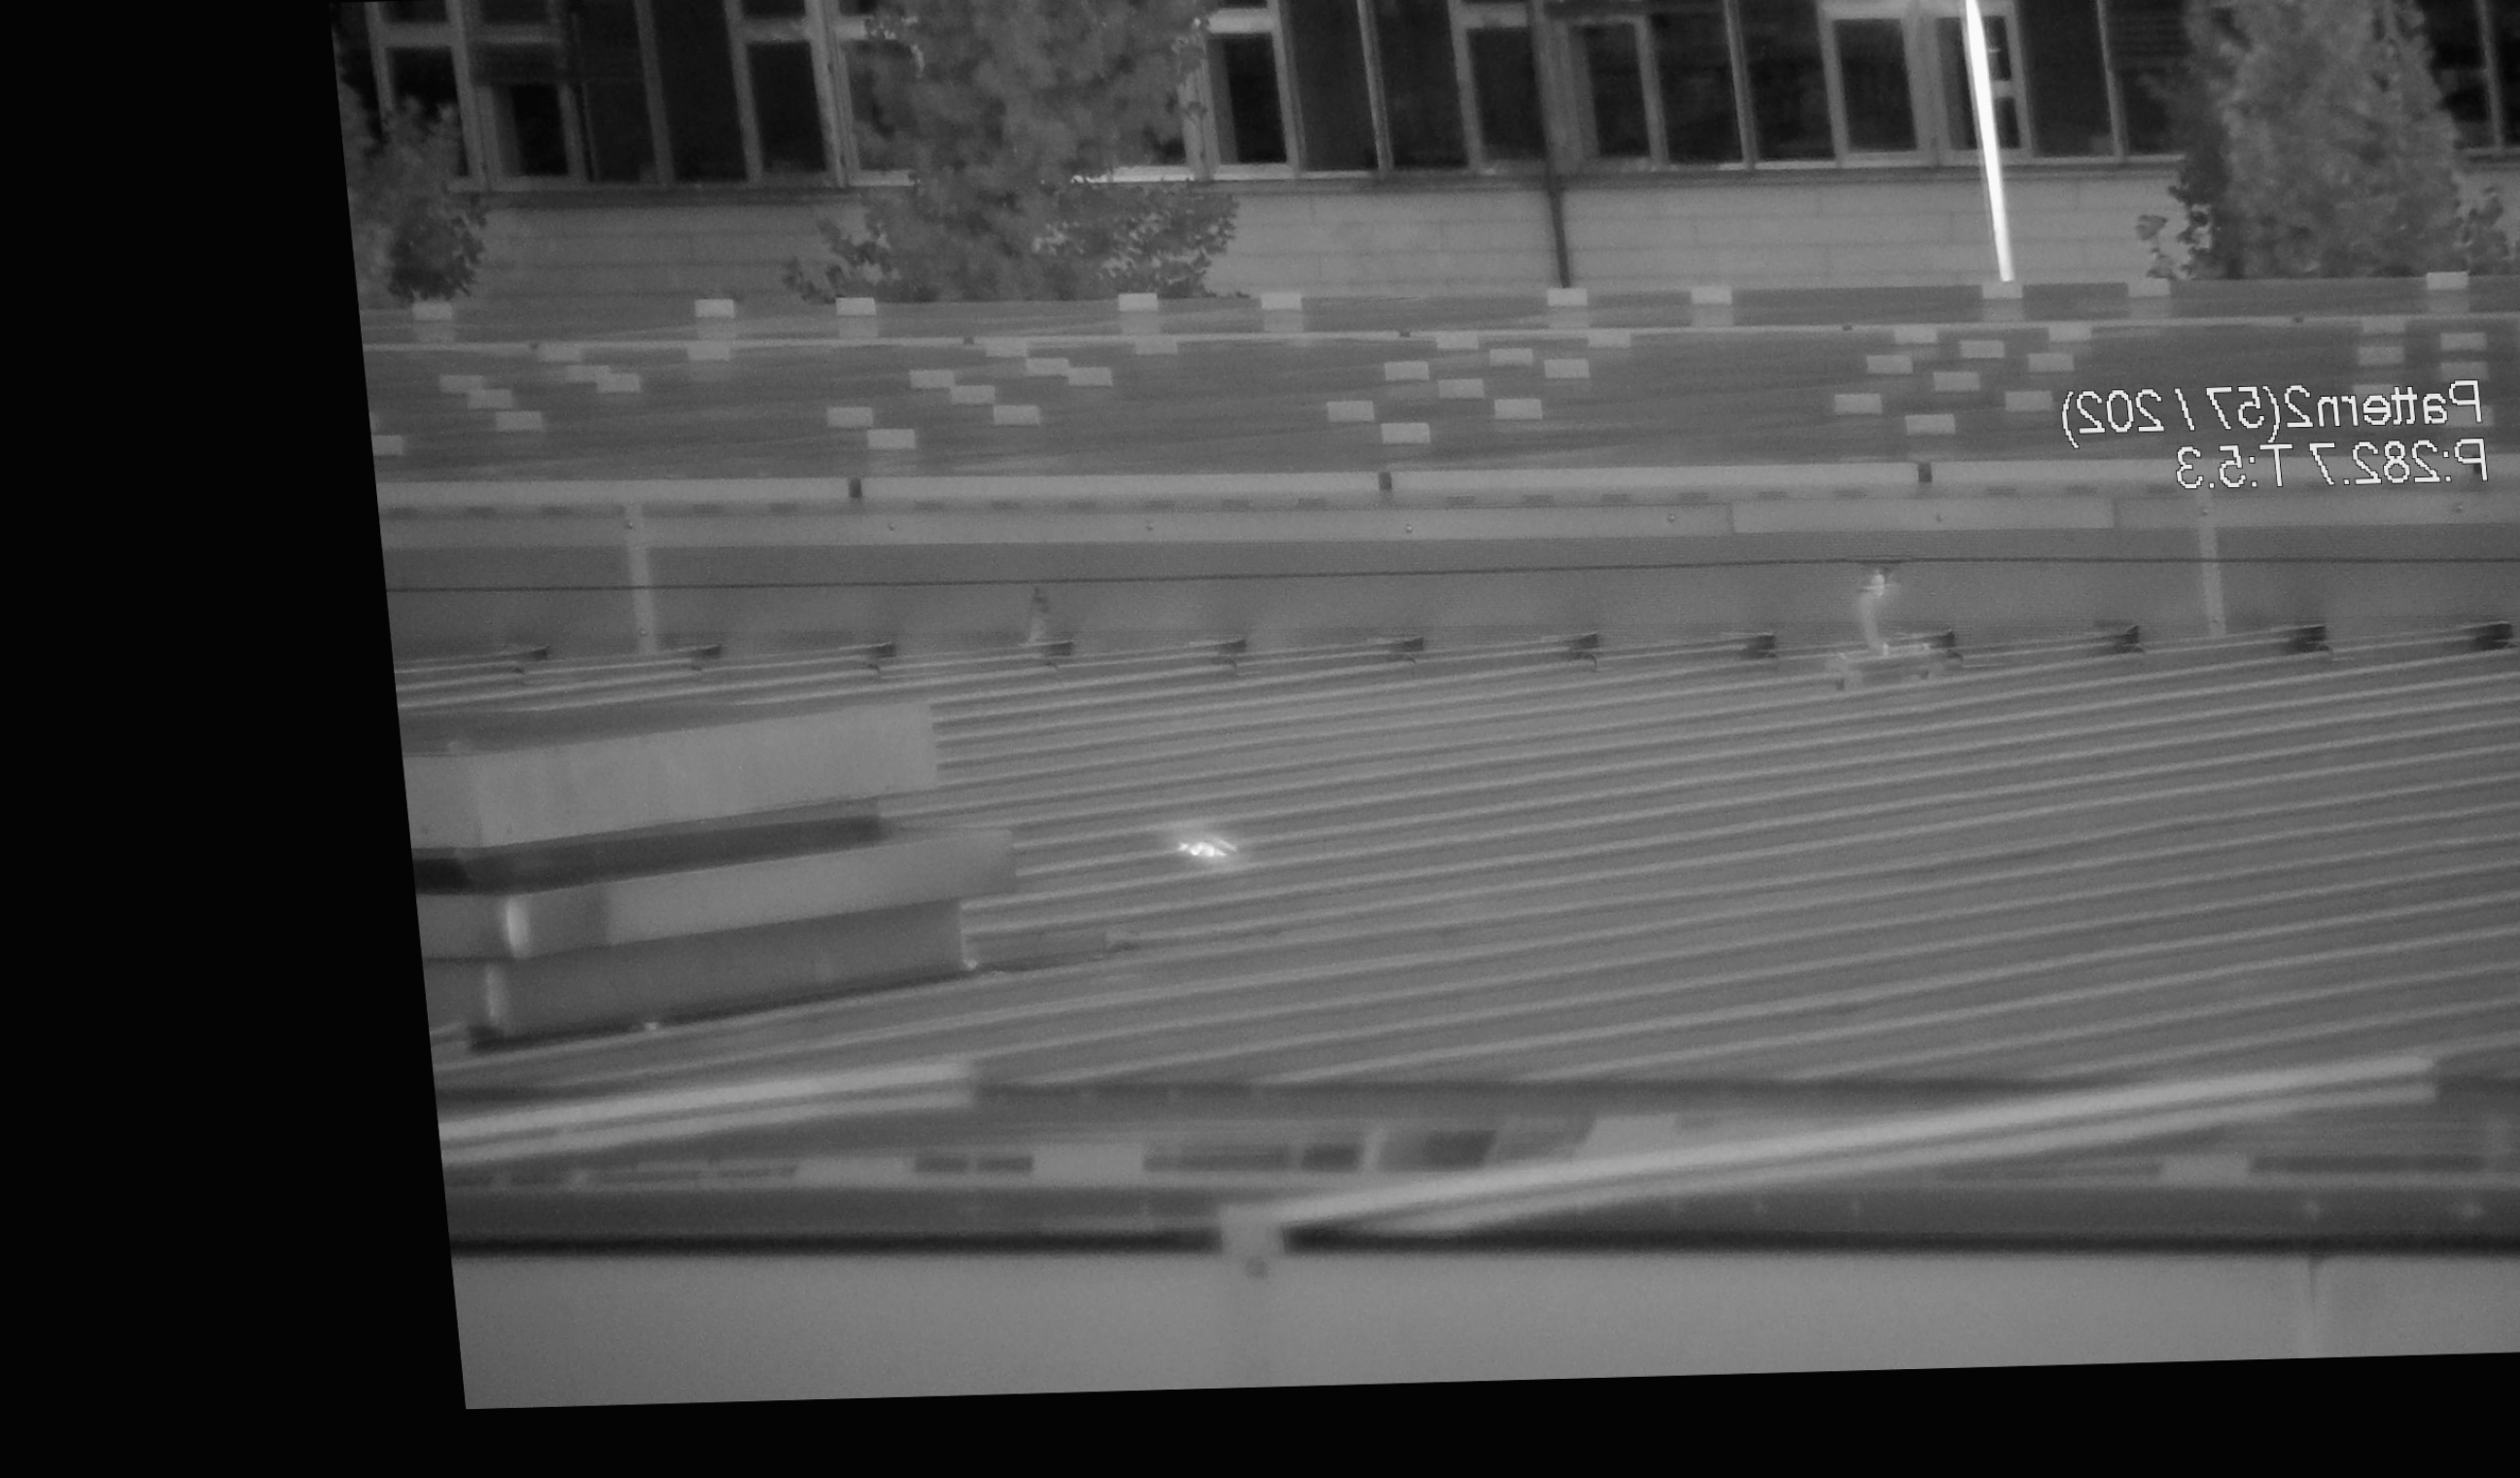Other: (997, 575, 1071, 669)
